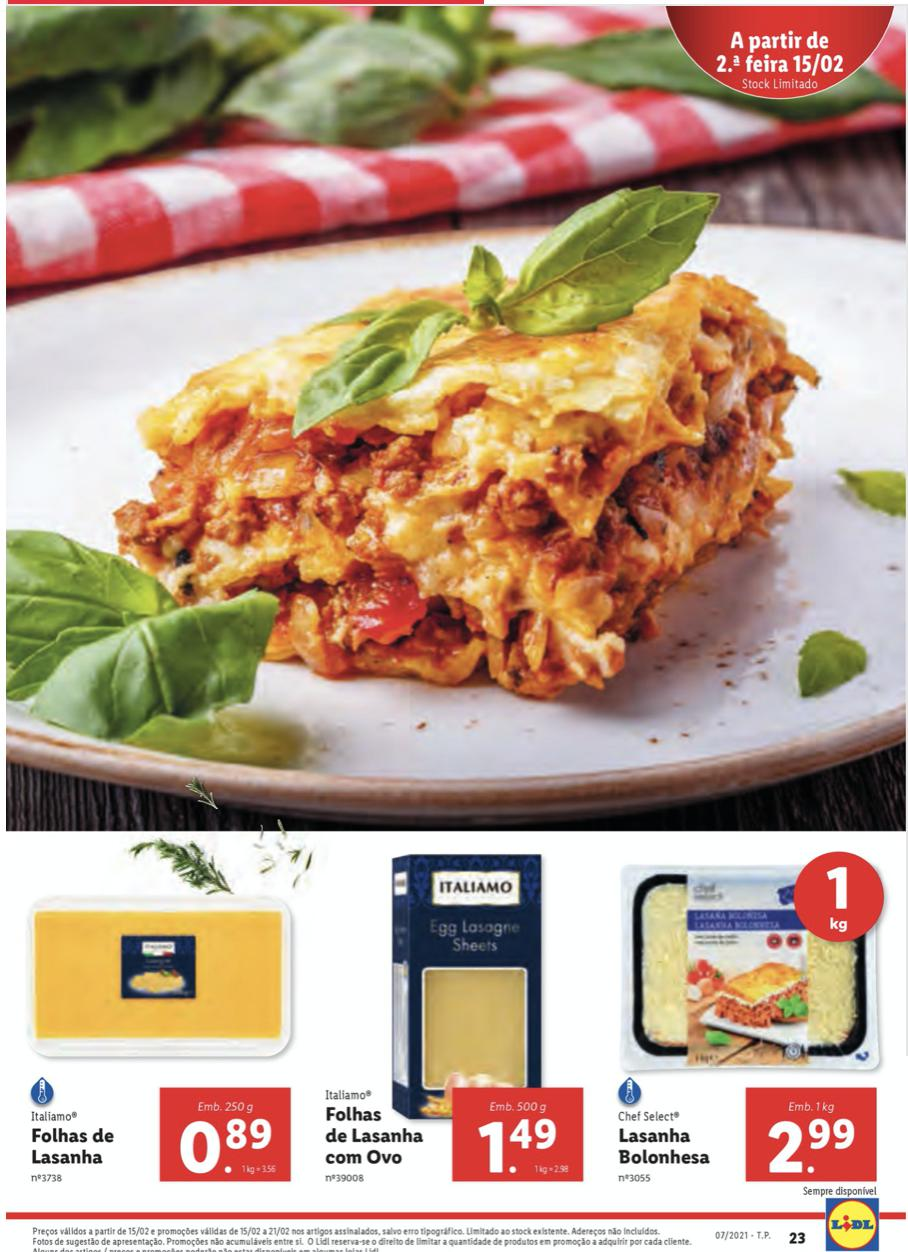name: (321, 1105, 422, 1167), (613, 1120, 716, 1169), (29, 1125, 121, 1167)
price: (449, 1083, 586, 1183), (746, 1081, 879, 1184), (155, 1087, 286, 1181)
product: (316, 841, 596, 1206), (613, 841, 893, 1194), (8, 872, 300, 1197)
